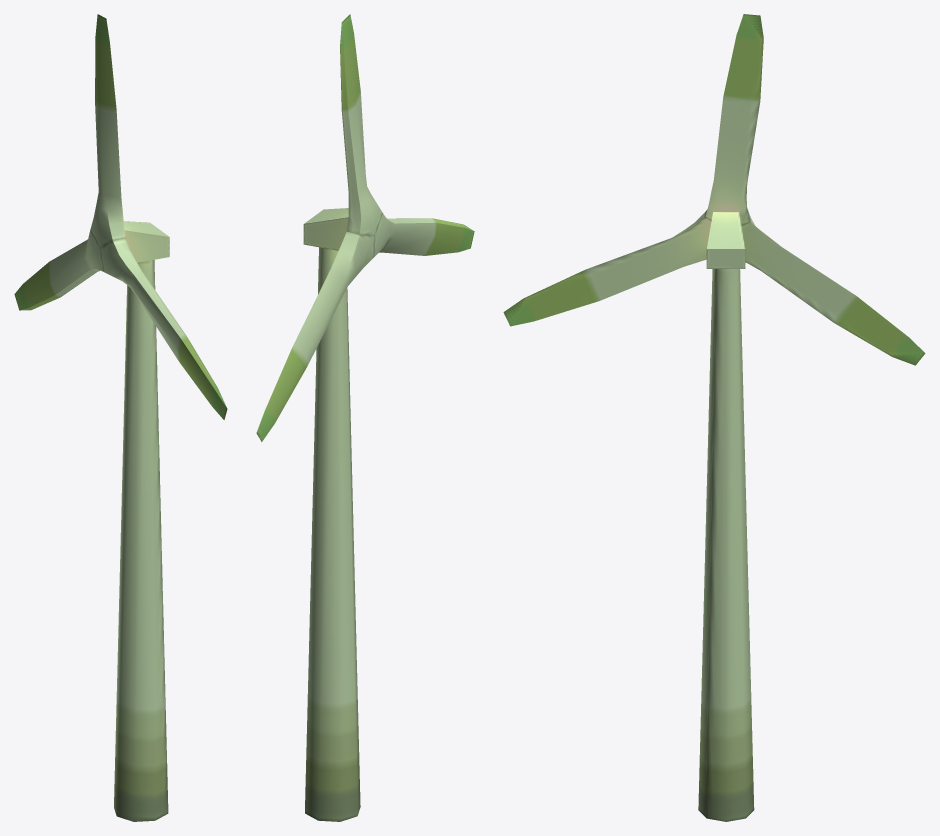
The model's file is windmill_fbx.fbx.
3 views of the same model, side by side, from view 1: azimuth 30°, elevation 25°; view 2: azimuth 150°, elevation 25°; view 3: azimuth 270°, elevation 25° (orthographic). The views are drawn at different scales.
Parts seen in each view (by area): view 1: windmill_base, windmill_propeller; view 2: windmill_base, windmill_propeller; view 3: windmill_base, windmill_propeller.
Part boxes in pixels (left/top/right/bottom): windmill_base: left=114, top=221, right=169, bottom=821; windmill_propeller: left=14, top=14, right=227, bottom=419; windmill_base: left=303, top=208, right=360, bottom=821; windmill_propeller: left=256, top=14, right=474, bottom=441; windmill_base: left=698, top=212, right=754, bottom=821; windmill_propeller: left=503, top=14, right=925, bottom=365.
Bounding box in the file's own units: 10.49 × 121 × 59.19.
